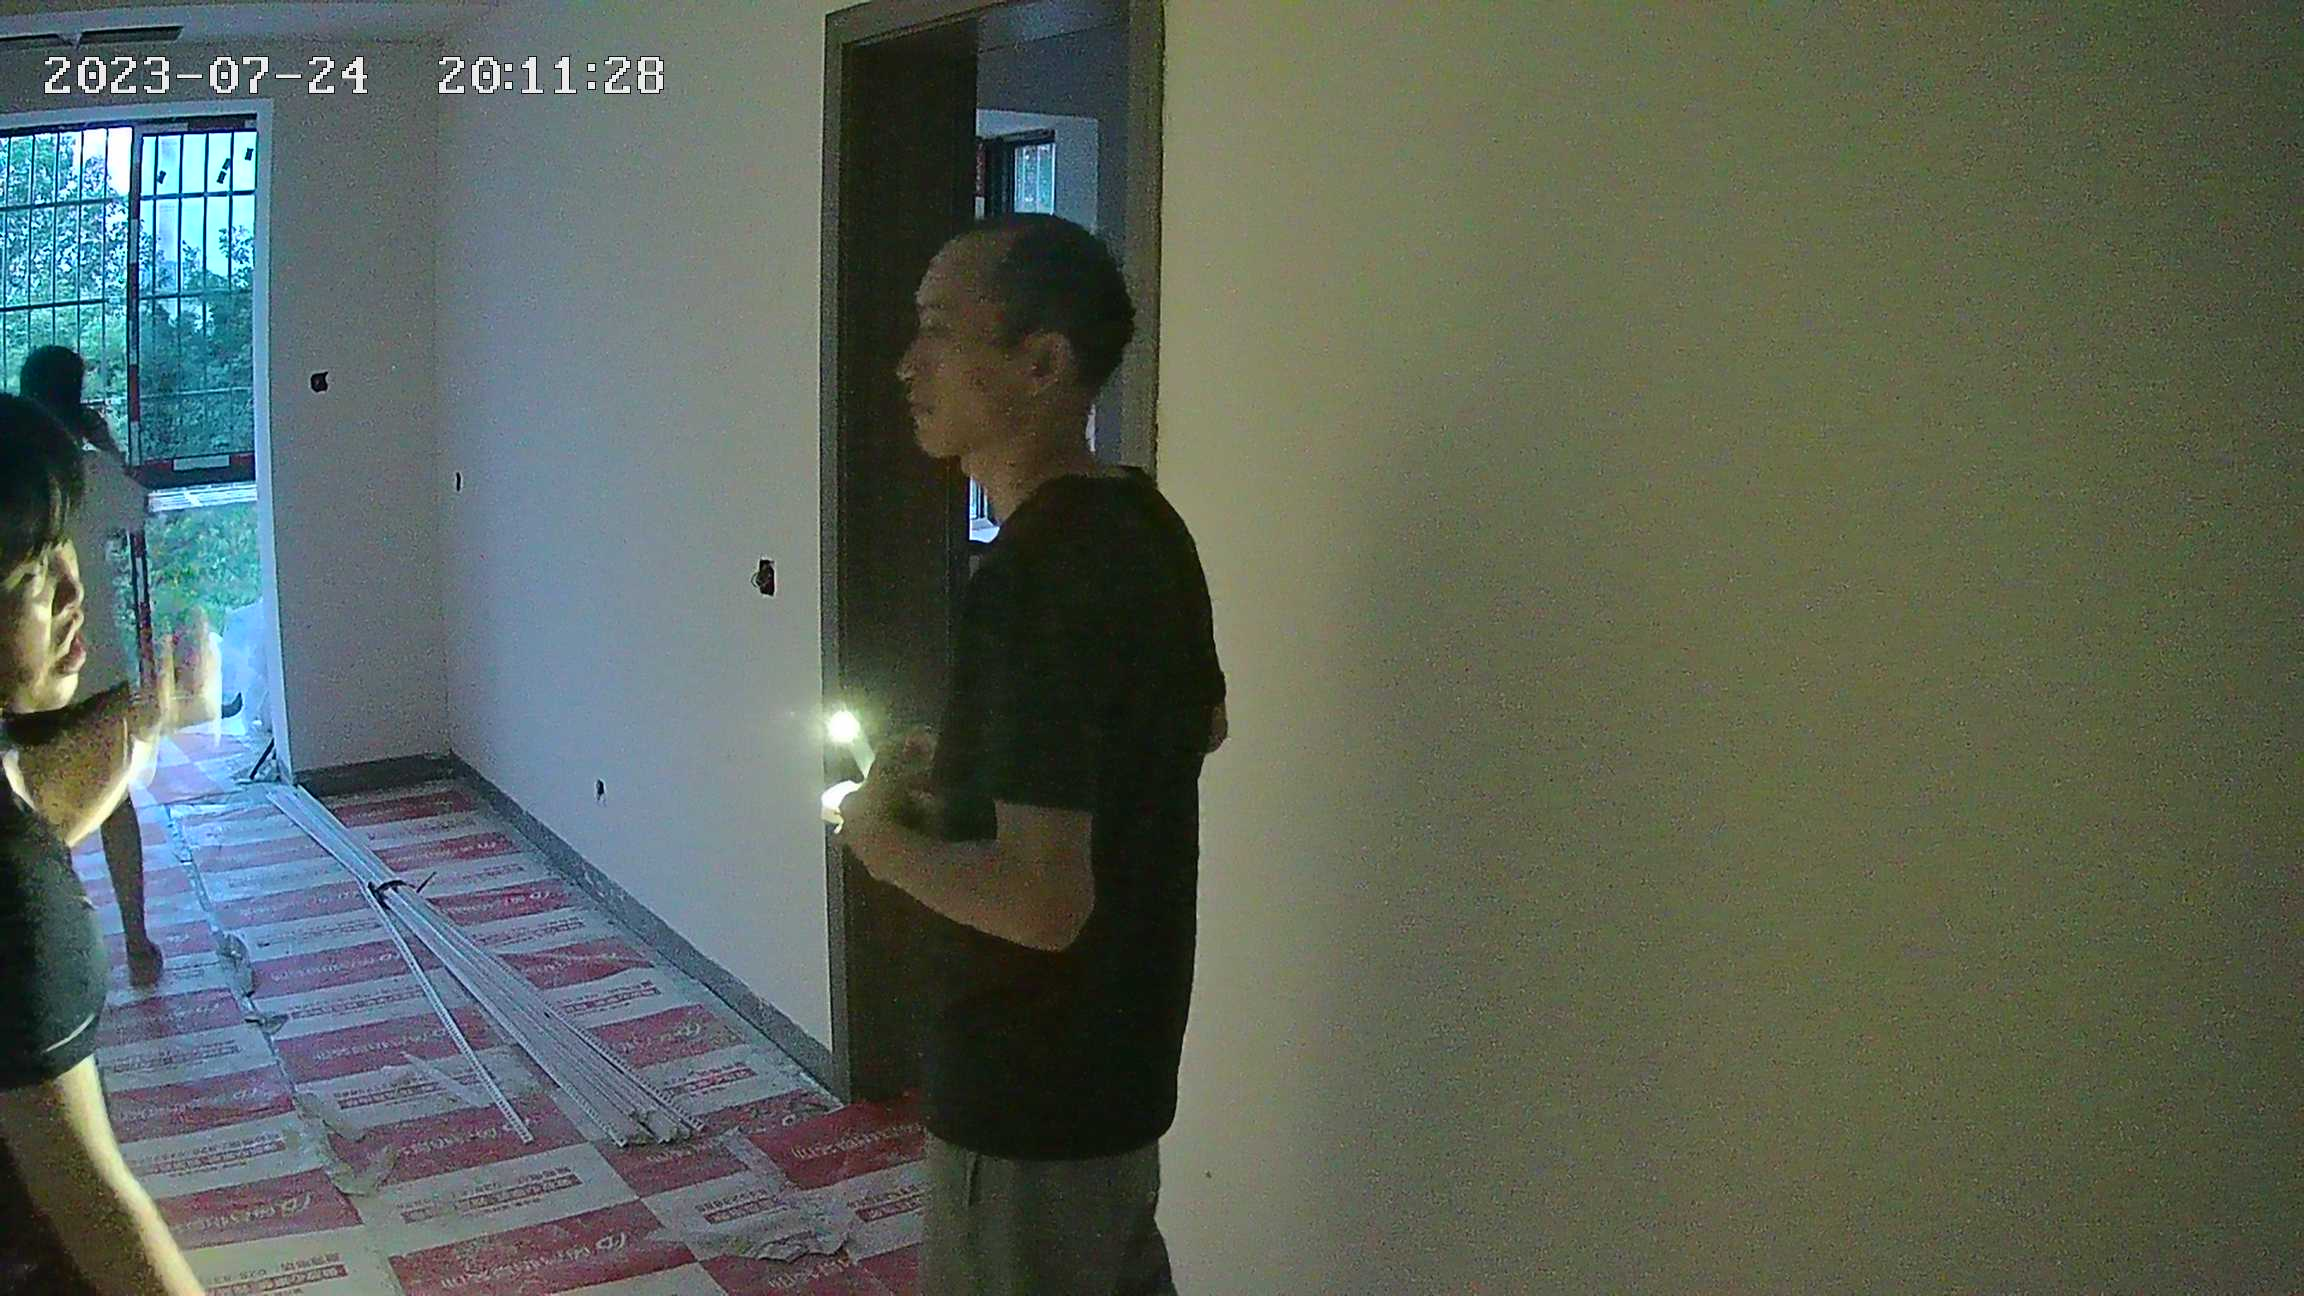people: (860, 203, 1226, 1296), (1, 415, 214, 1289), (1, 336, 176, 985)
window: (2, 138, 256, 486)
